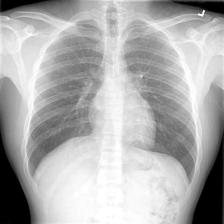normal: (22, 15, 202, 189)
